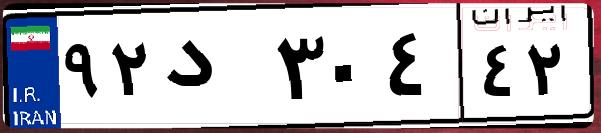0: (330, 28, 385, 110)
2: (525, 38, 570, 115), (110, 28, 158, 98)
3: (270, 28, 330, 110)
4: (385, 28, 445, 110), (475, 38, 525, 113)
9: (57, 26, 110, 100)
د: (158, 20, 270, 120)
